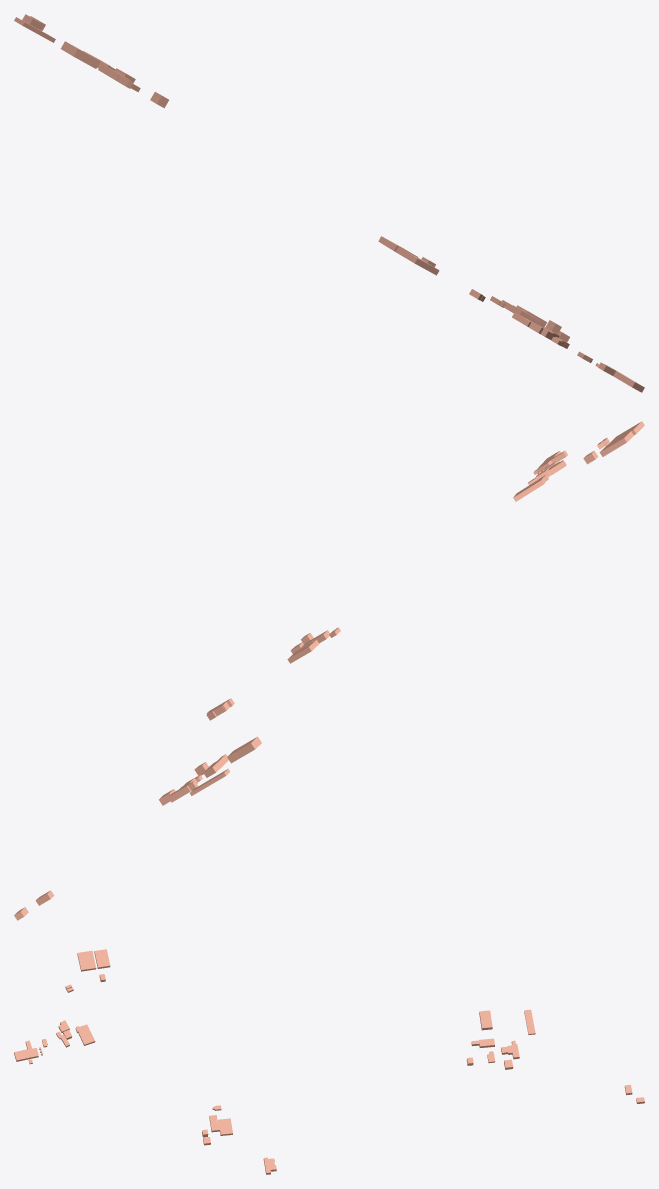
3 renders of one model, top to bottom at view 1: azimuth 30°, elevation 25°; view 2: azimuth 150°, elevation 25°; view 3: azimuth 270°, elevation 25°, orthographic. The views are drawn at different scales.
Size of the model in its own units: 322 by 269 by 1054.
